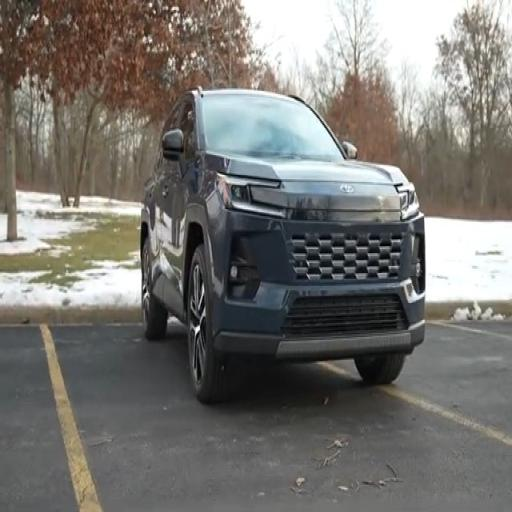bumper: (212, 212, 424, 359), (215, 320, 424, 359)
door: (164, 96, 199, 304), (157, 158, 182, 315)
emblem: (340, 184, 353, 193)
fog_light: (230, 265, 238, 280), (416, 261, 421, 277)
grille: (282, 295, 407, 337), (291, 234, 403, 280)
headlight: (217, 174, 285, 217), (397, 183, 419, 220)
hood: (212, 158, 407, 221), (222, 157, 407, 184)
side_mirror: (162, 130, 183, 160), (342, 141, 357, 159)
tire: (355, 353, 406, 385)
wheel: (188, 245, 227, 403), (141, 238, 168, 341)
window: (180, 100, 195, 160)
windshield: (202, 94, 343, 162)
